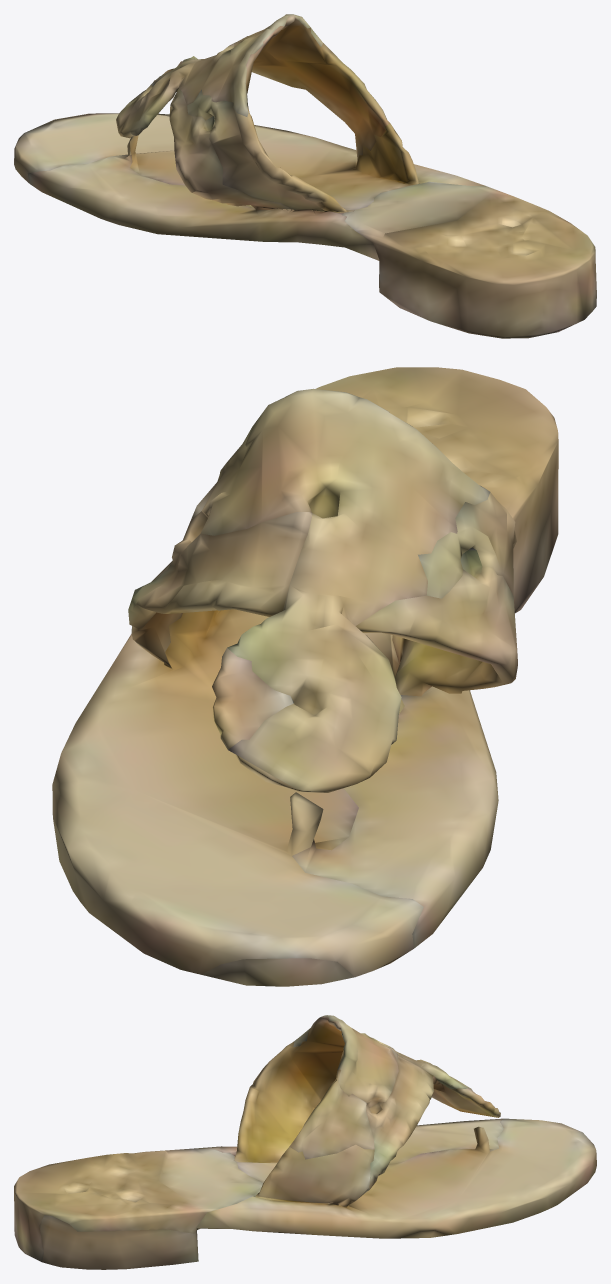
The model's file is NAPA_VALLEY_NAVAJO_SANDAL-medium.glb.
The picture shows the model from 3 angles, top to bottom: view 1: azimuth 30°, elevation 25°; view 2: azimuth 150°, elevation 25°; view 3: azimuth 270°, elevation 25°; orthographic projection. The views are drawn at different scales.
Visible parts, largest first — view 1: NAPA_VALLEY_NAVAJO_SANDAL; view 2: NAPA_VALLEY_NAVAJO_SANDAL; view 3: NAPA_VALLEY_NAVAJO_SANDAL.
Part boxes in pixels (bbox=[...]): NAPA_VALLEY_NAVAJO_SANDAL: bbox=[14, 14, 596, 338]; NAPA_VALLEY_NAVAJO_SANDAL: bbox=[52, 367, 558, 986]; NAPA_VALLEY_NAVAJO_SANDAL: bbox=[14, 1015, 596, 1269].
Bounding box in the file's own units: 0.1277 × 0.081 × 0.2324.
Materials: 1 (1 with a texture image).
